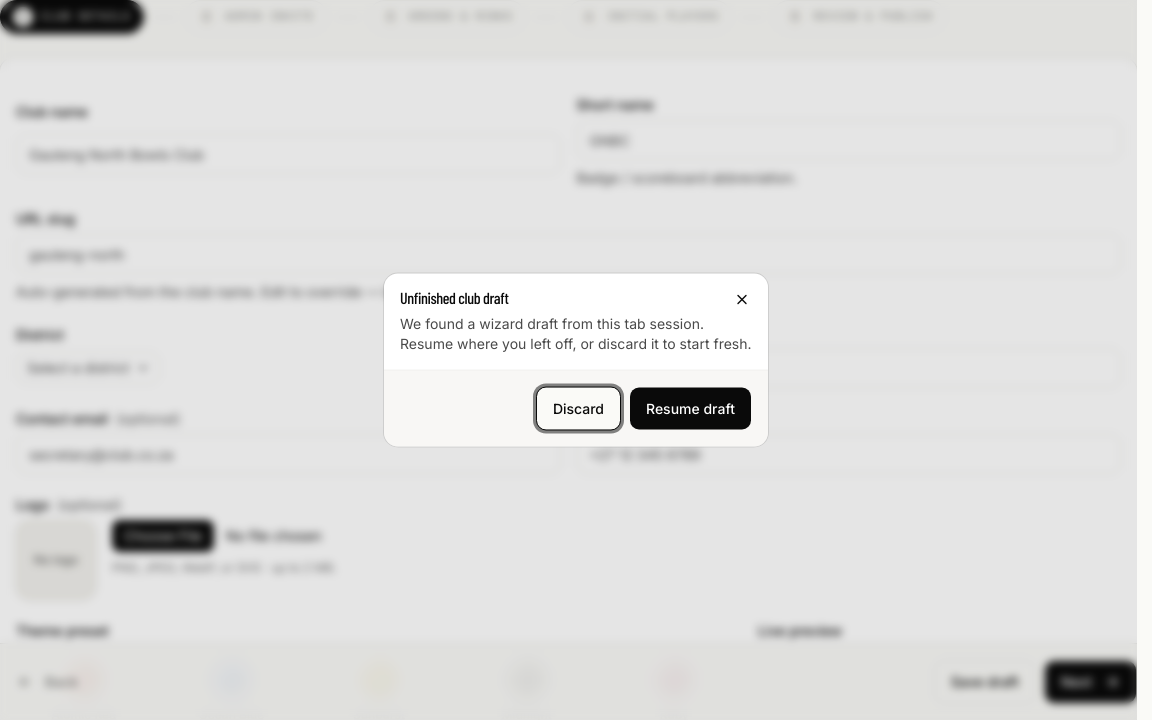
it: NewClubWizard › Resume hydrates the form with the stored draft values
The image size is (1152, 720).
Expected: the dialog with test id "wizard-draft-dialog" is shown, top-left (384, 274), bottom-right (768, 446)
Click the button with test id "wizard-draft-resume" at x=690, y=408, box top-left (629, 386), bottom-right (752, 430)
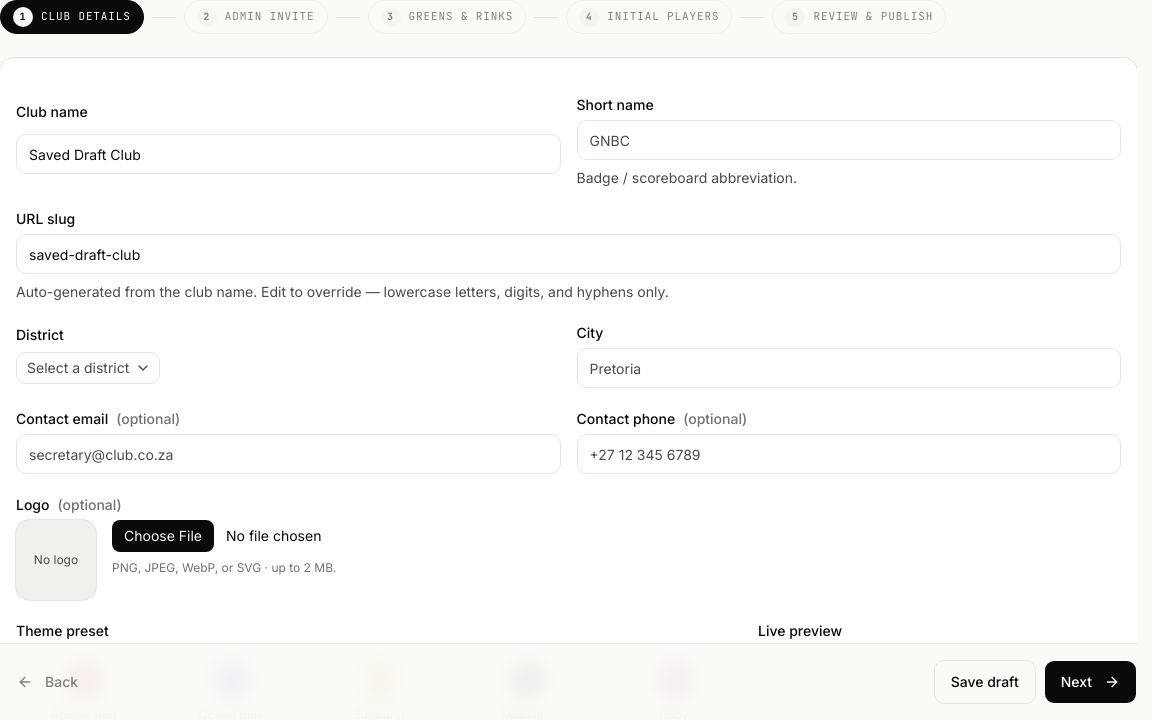
Expected: the field with test id "field-name" holds "Saved Draft Club", top-left (16, 134), bottom-right (560, 174)
